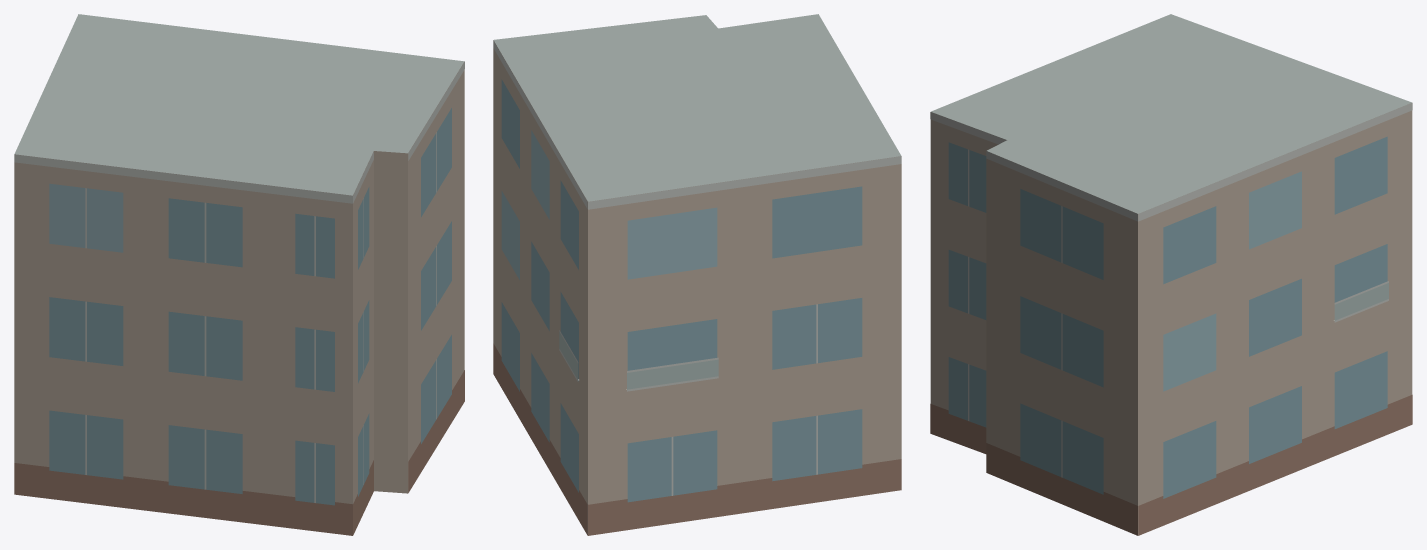
The model's file is survey-upis-32652434.glb.
3 renders of one model, left to right at view 1: azimuth 30°, elevation 25°; view 2: azimuth 150°, elevation 25°; view 3: azimuth 270°, elevation 25°, orthographic. The views are drawn at different scales.
Parts seen in each view (by area): view 1: survey-upis-32652434.tmp; view 2: survey-upis-32652434.tmp; view 3: survey-upis-32652434.tmp.
Part boxes in pixels (x1,y1,x2,y2): survey-upis-32652434.tmp: (14, 14, 464, 535); survey-upis-32652434.tmp: (493, 14, 901, 535); survey-upis-32652434.tmp: (930, 14, 1412, 535).
Size of the model in its own units: 13.59 by 10.2 by 13.85.
